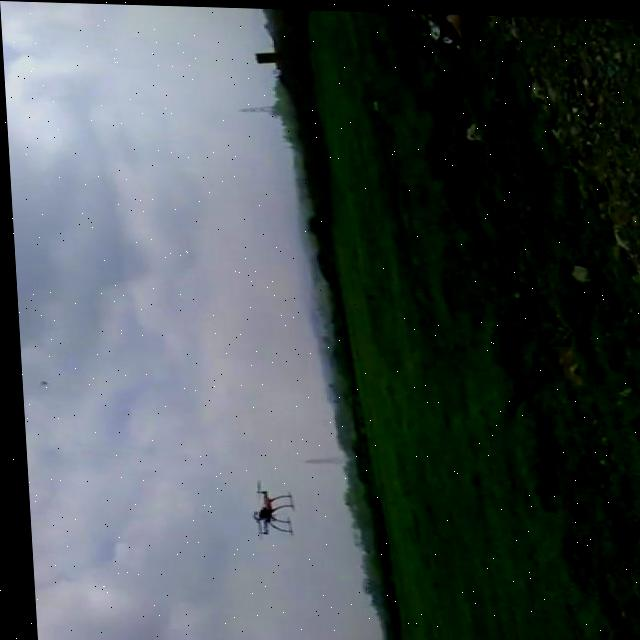drone: (239, 475, 290, 538)
